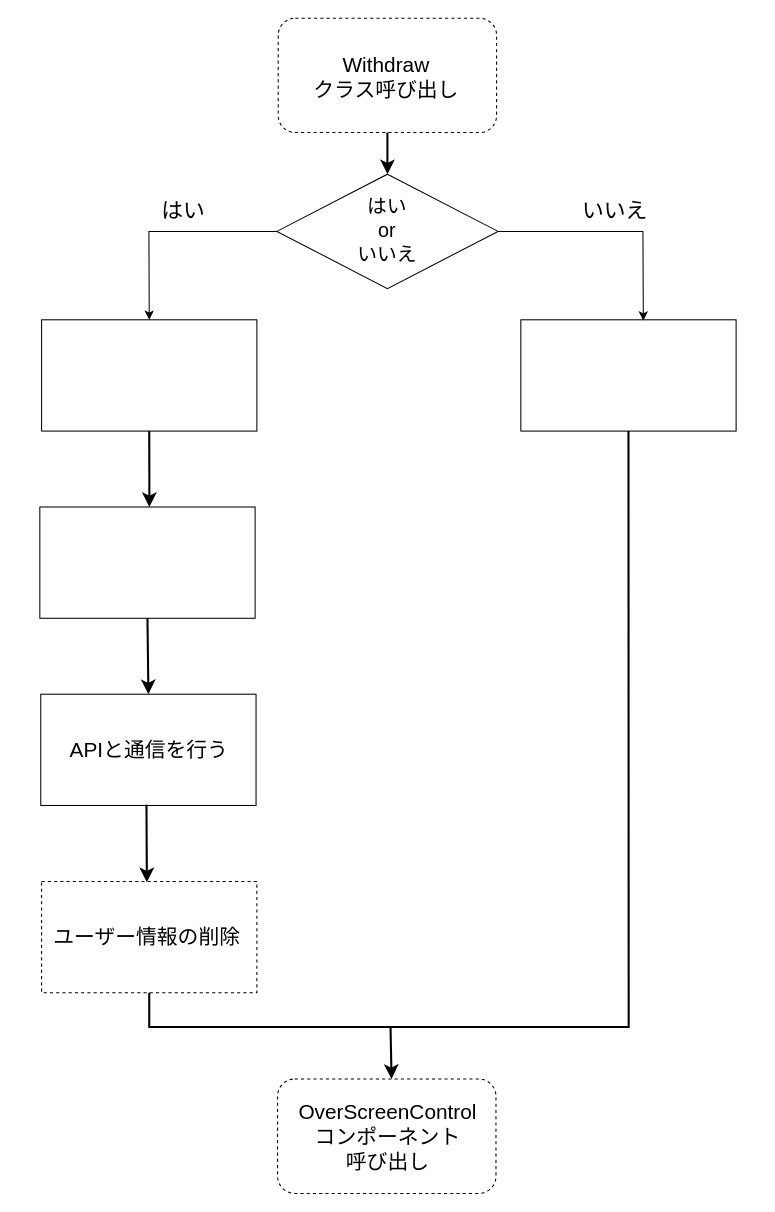
Some shapes in this 775 by 1212 pixel diagram are drawn without their labels. The shapes that lost their labels are listed below. From the top down, each one's centre as x and y in pixels, then its label:
At [149,375]: "はいを選択".
At [628,375]: "いいえを選択".
At [147,562]: "セッション情報を削除".
